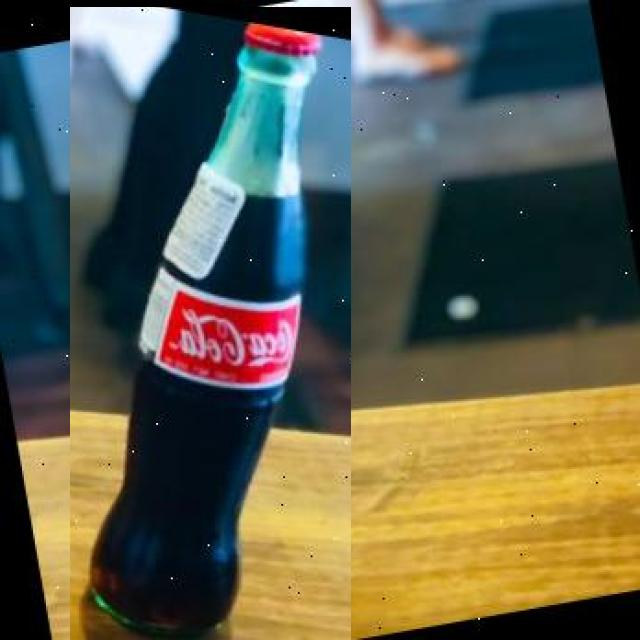coca-cola: (70, 7, 351, 640)
